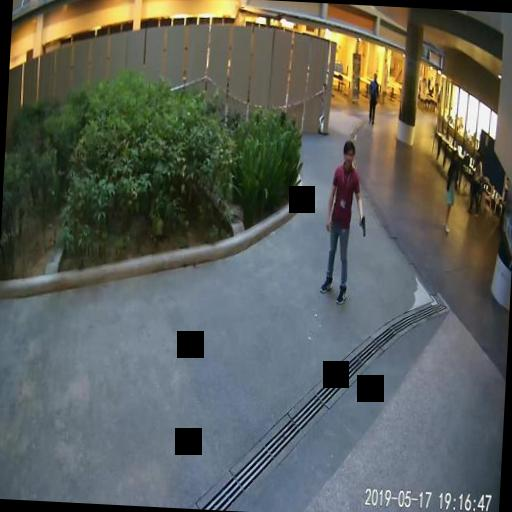Handgun: (358, 214, 366, 236)
